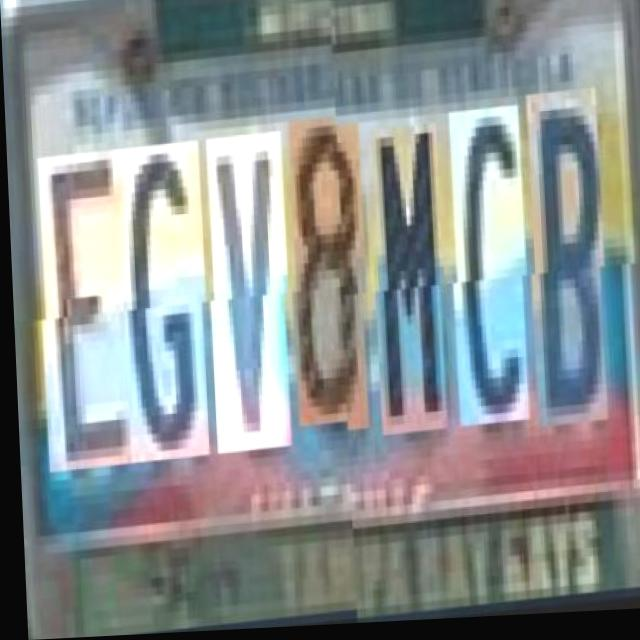8: (287, 130, 369, 442)
b: (526, 100, 609, 439)
c: (448, 116, 530, 438)
e: (36, 160, 131, 482)
g: (119, 154, 211, 476)
m: (369, 133, 448, 444)
v: (205, 147, 292, 468)
